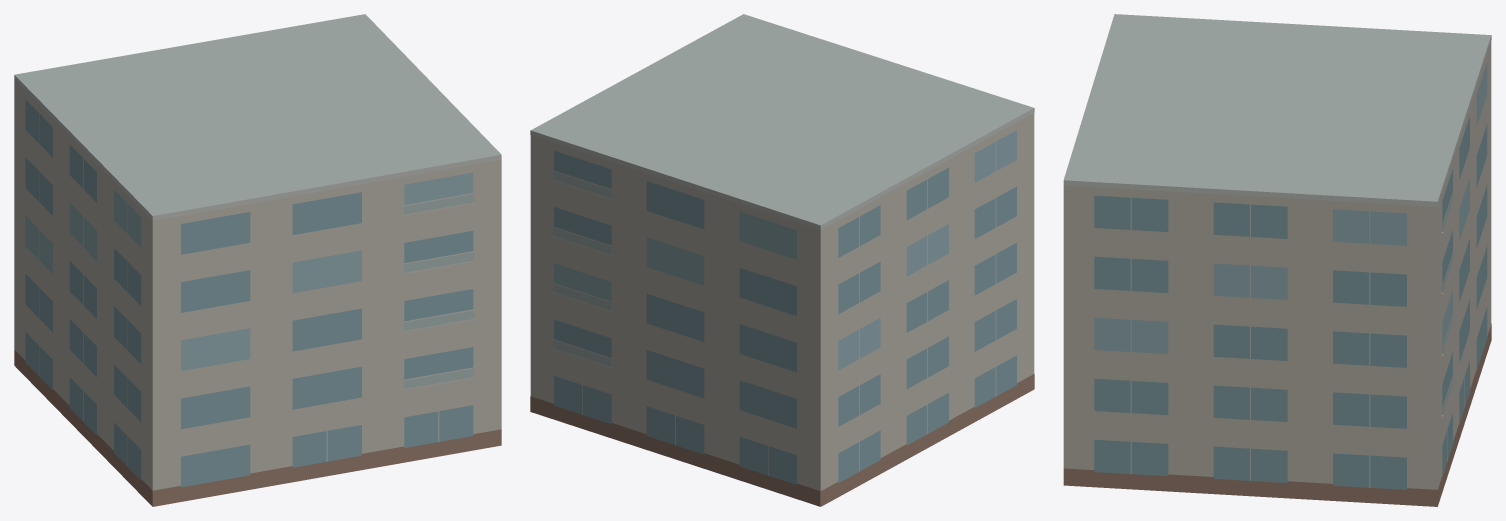
Rendered from survey-upis-33028727.glb.
The picture shows the model from 3 angles, left to right: view 1: azimuth 30°, elevation 25°; view 2: azimuth 150°, elevation 25°; view 3: azimuth 270°, elevation 25°; orthographic projection. The views are drawn at different scales.
Parts seen in each view (by area): view 1: survey-upis-33028727.tmp; view 2: survey-upis-33028727.tmp; view 3: survey-upis-33028727.tmp.
Boxes of the visible parts, <box> form: survey-upis-33028727.tmp: <box>14,14,501,506</box>; survey-upis-33028727.tmp: <box>530,14,1034,506</box>; survey-upis-33028727.tmp: <box>1063,14,1491,506</box>.
Bounding box in the file's own units: 19.27 × 14.6 × 18.57.
